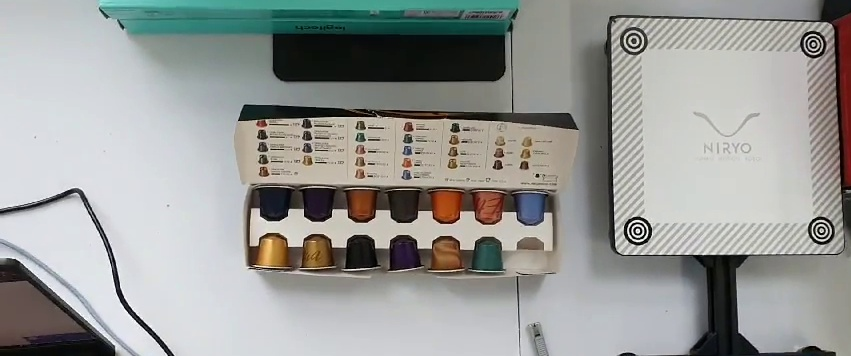capsule_1: (255, 182, 296, 221)
capsule_10: (341, 235, 383, 274)
capsule_11: (386, 235, 426, 273)
capsule_12: (426, 237, 464, 273)
capsule_13: (469, 237, 509, 277)
capsule_2: (299, 183, 339, 224)
capsule_3: (345, 185, 381, 223)
capsule_4: (385, 187, 424, 224)
capsule_5: (426, 188, 468, 224)
capsule_6: (470, 188, 510, 225)
capsule_7: (514, 191, 552, 226)
capsule_8: (253, 234, 291, 271)
capsule_9: (295, 235, 336, 271)
